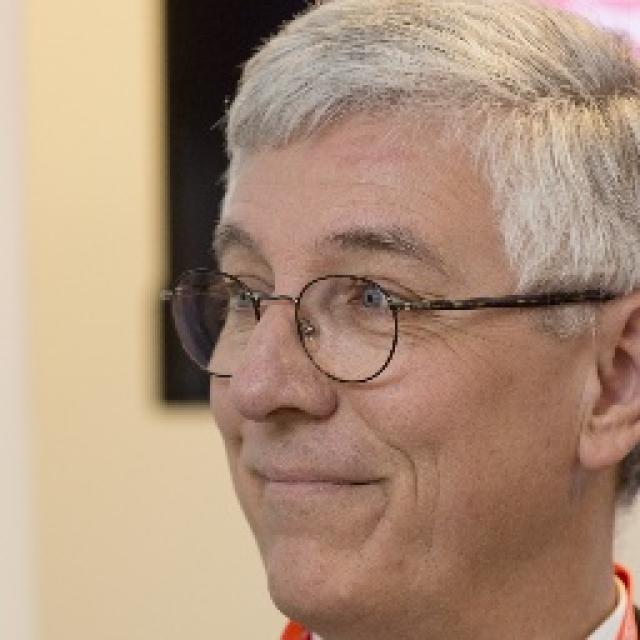earlobe: (577, 411, 626, 474)
eye: (342, 279, 419, 318), (221, 280, 272, 310)
nose: (233, 405, 338, 456)
wholeear: (575, 292, 640, 475)
